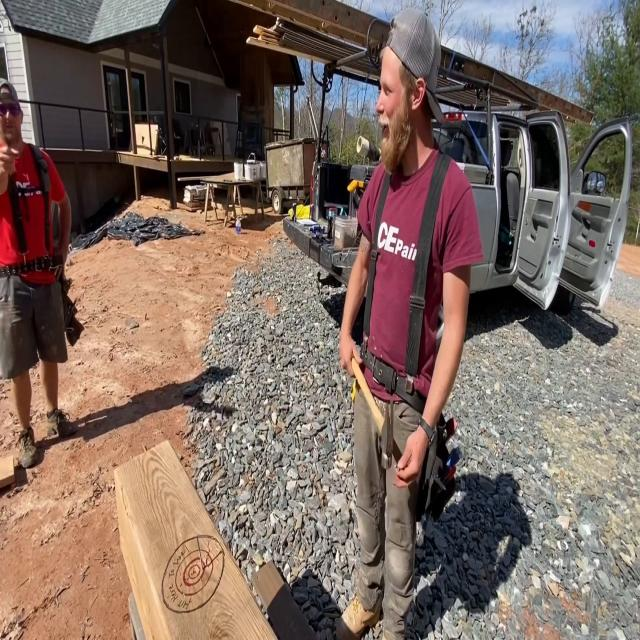hammer: (349, 351, 397, 478)
